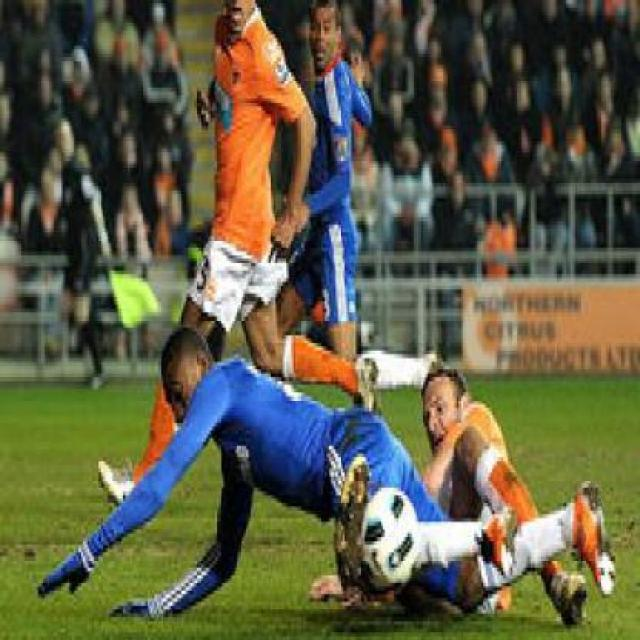fall: (369, 342, 606, 621)
